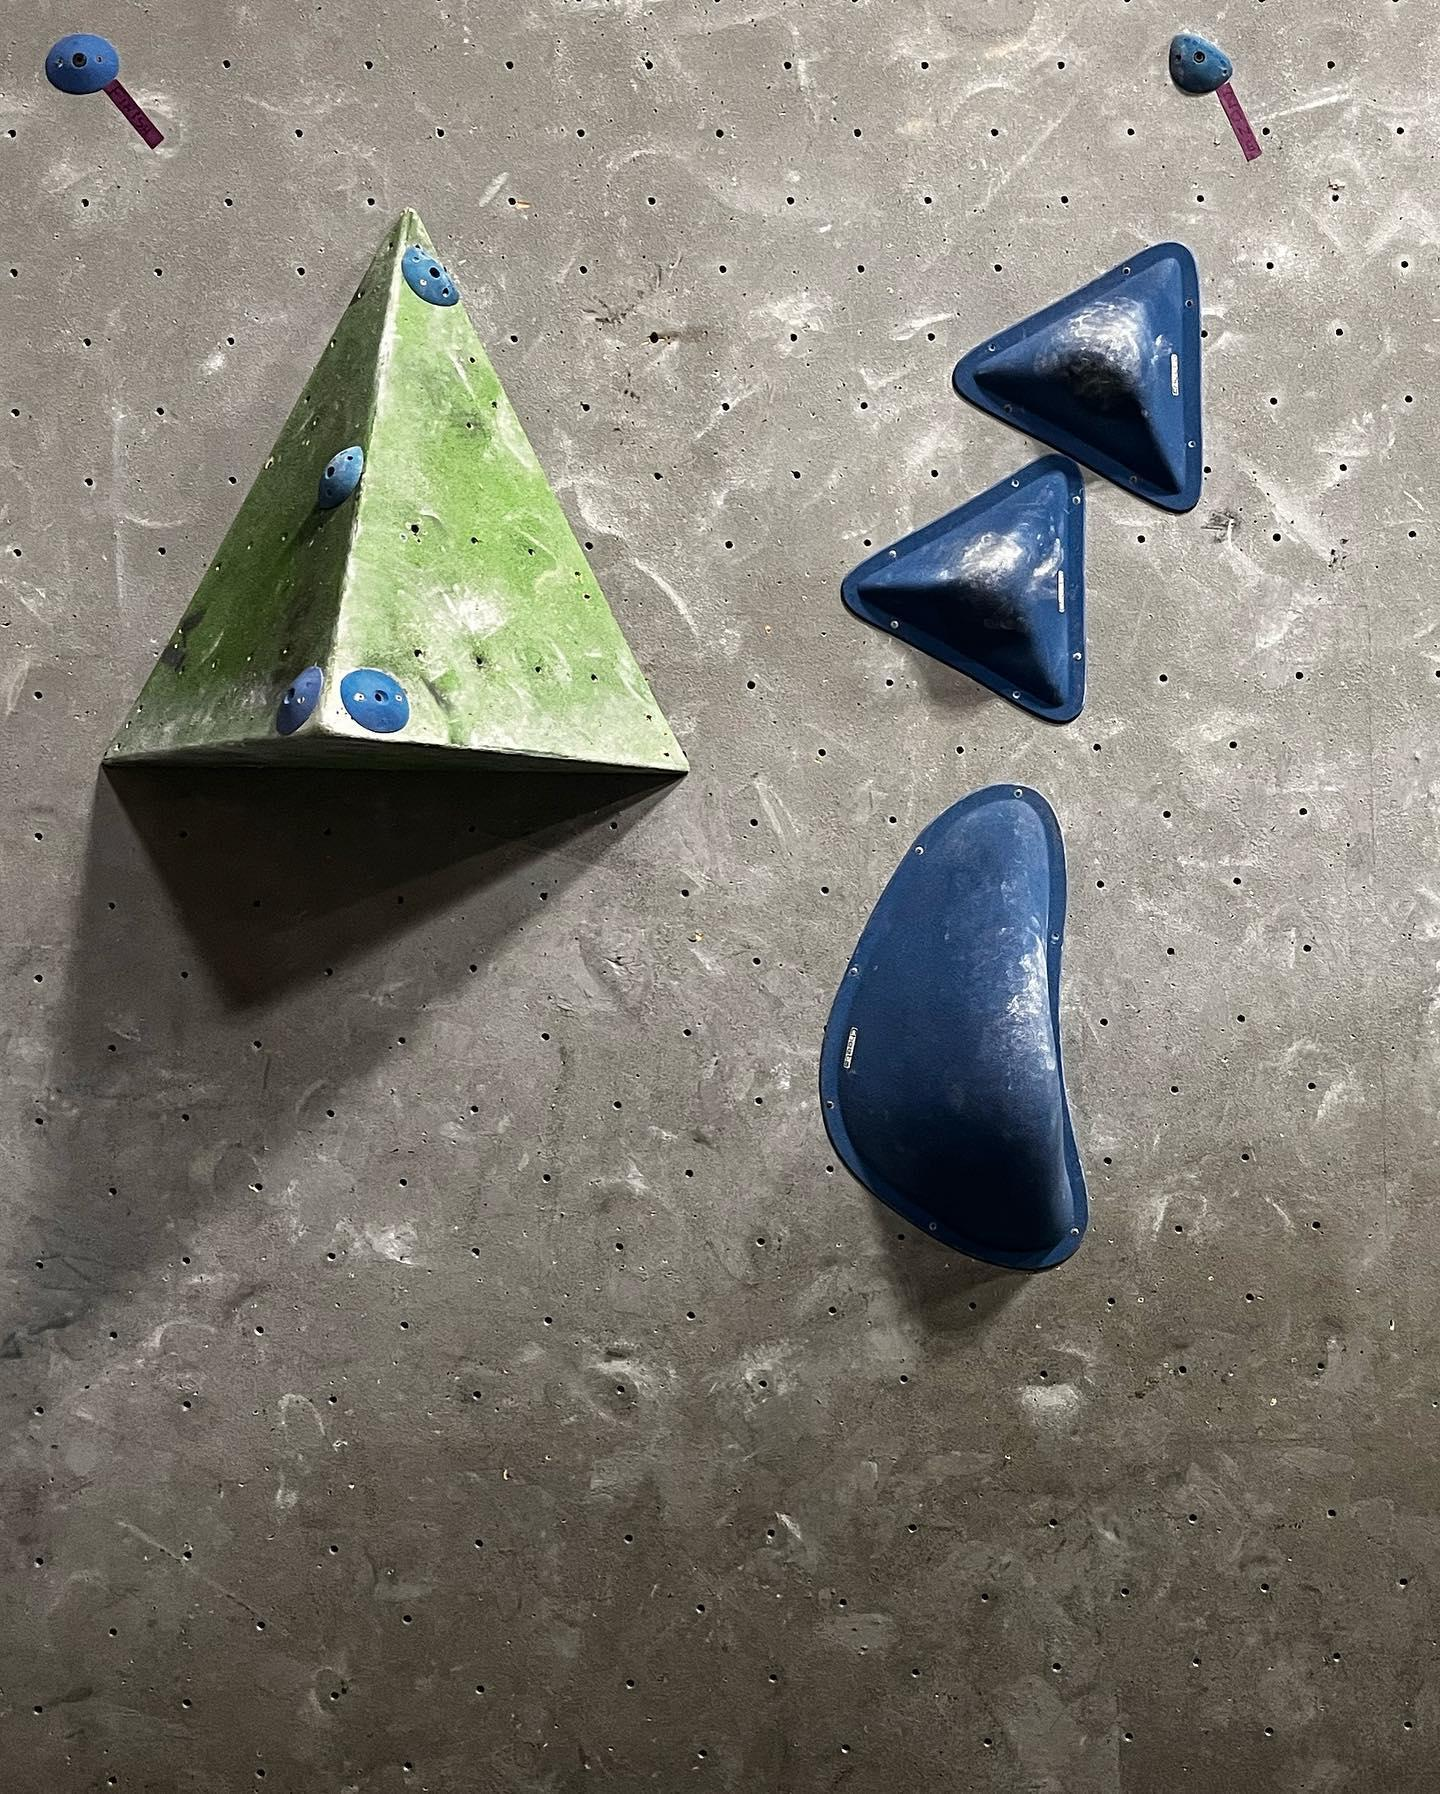hold: (821, 783, 1092, 1271), (952, 241, 1203, 514), (840, 454, 1086, 724), (46, 35, 119, 96), (341, 669, 408, 732), (1168, 32, 1231, 94), (401, 242, 458, 306), (276, 666, 322, 735), (319, 445, 364, 508)
volume: (98, 204, 696, 774)
